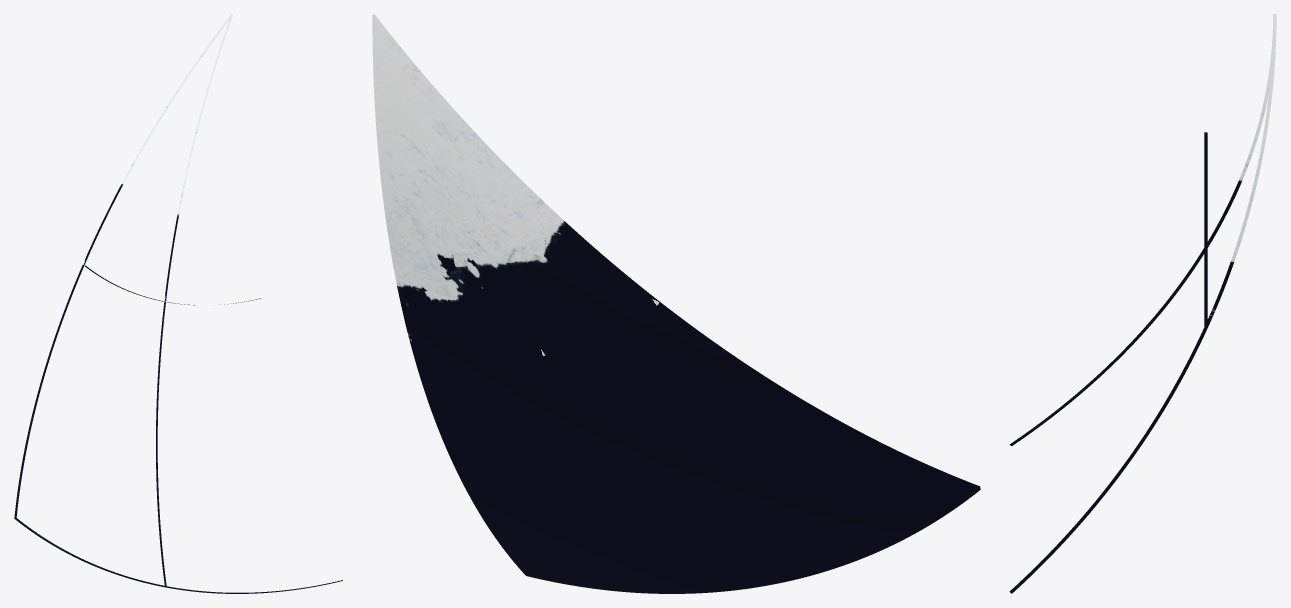
3 views of the same model, side by side, from view 1: azimuth 30°, elevation 25°; view 2: azimuth 150°, elevation 25°; view 3: azimuth 270°, elevation 25° (orthographic). The views are drawn at different scales.
Parts seen in each view (by area): view 1: DefaultName.012, DefaultName.009, DefaultName.003, DefaultName.006; view 2: DefaultName.012, DefaultName.009, DefaultName.003, DefaultName.006; view 3: DefaultName.009, DefaultName.012, DefaultName.006, DefaultName.003.
Boxes of the visible parts, x1=… form: DefaultName.012: x1=14, y1=264, x2=166, y2=587; DefaultName.009: x1=156, y1=298, x2=342, y2=593; DefaultName.003: x1=83, y1=14, x2=232, y2=301; DefaultName.006: x1=164, y1=16, x2=232, y2=305; DefaultName.012: x1=546, y1=302, x2=980, y2=584; DefaultName.009: x1=412, y1=351, x2=771, y2=593; DefaultName.003: x1=372, y1=14, x2=659, y2=355; DefaultName.006: x1=372, y1=16, x2=545, y2=360; DefaultName.009: x1=1009, y1=247, x2=1207, y2=593; DefaultName.012: x1=1009, y1=132, x2=1207, y2=445; DefaultName.006: x1=1204, y1=14, x2=1276, y2=327; DefaultName.003: x1=1205, y1=29, x2=1272, y2=247.
Size of the model in its own units: 31944 by 45176 by 18870.
Materials: 4 (4 with a texture image).
